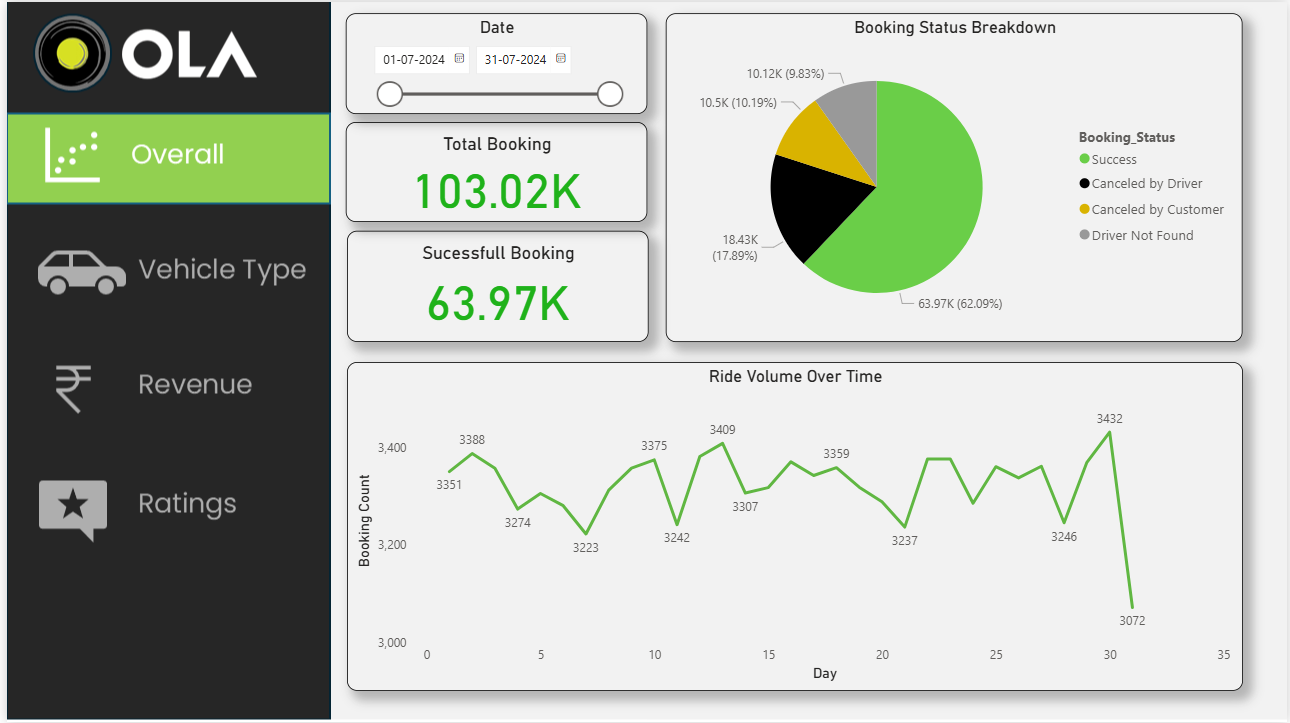

The dashboard page shown, as its layout file describes it:
{"tool":"powerbi","page":{"name":"Overall","canvas":[1280,720],"ordinal":0},"visuals":[{"type":"lineChart","title":" Ride Volume Over Time","fields":{"Y":["CountNonNull(cleaned_bookings.Booking_ID)"],"Category":["cleaned_bookings.Date.Variation.Date Hierarchy.Day"]},"box":[340,360,895.7,328.6],"z":0},{"type":"pieChart","title":"Booking Status Breakdown","fields":{"Category":["cleaned_bookings.Booking_Status"],"Y":["CountNonNull(cleaned_bookings.Booking_Status)"]},"box":[658.6,11.4,577.1,328.6],"z":1000},{"type":"slicer","title":"Date","fields":{"Values":["cleaned_bookings.Date"]},"box":[338.6,11.4,301.4,101],"z":2000},{"type":"card","title":"Total Booking","fields":{"Values":["CountNonNull(cleaned_bookings.Booking_ID)"]},"box":[338.6,120.5,301.4,100],"z":3000},{"type":"card","title":"Sucessfull Booking","fields":{"Values":["CountNonNull(cleaned_bookings.Booking_ID)"]},"box":[340,228.6,301.4,111.4],"z":4000}]}

Visuals, with their boxes in screenshot pixels (x1, y1, x2, y2), scaled from the page's 1280x720 canvas onto the 1290x723 screenshot:
" Ride Volume Over Time" lineChart: l=343, t=362, r=1245, b=691
"Booking Status Breakdown" pieChart: l=664, t=11, r=1245, b=341
"Date" slicer: l=341, t=11, r=645, b=113
"Total Booking" card: l=341, t=121, r=645, b=221
"Sucessfull Booking" card: l=343, t=230, r=646, b=341
